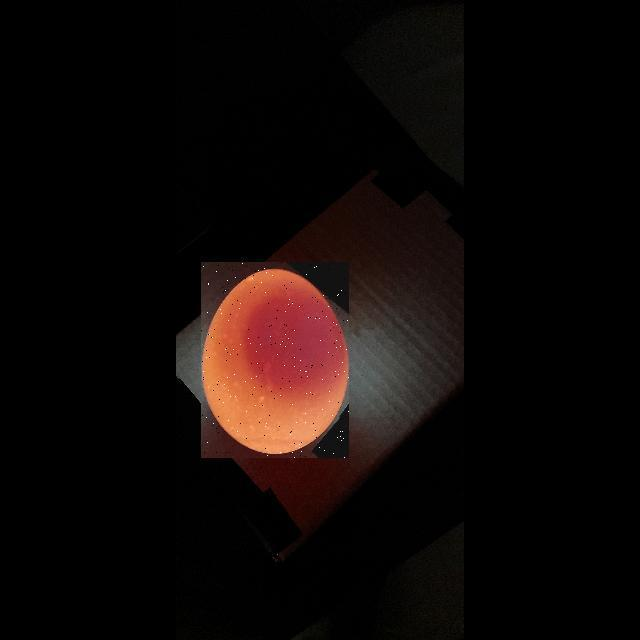Inedible: (191, 260, 361, 458)
